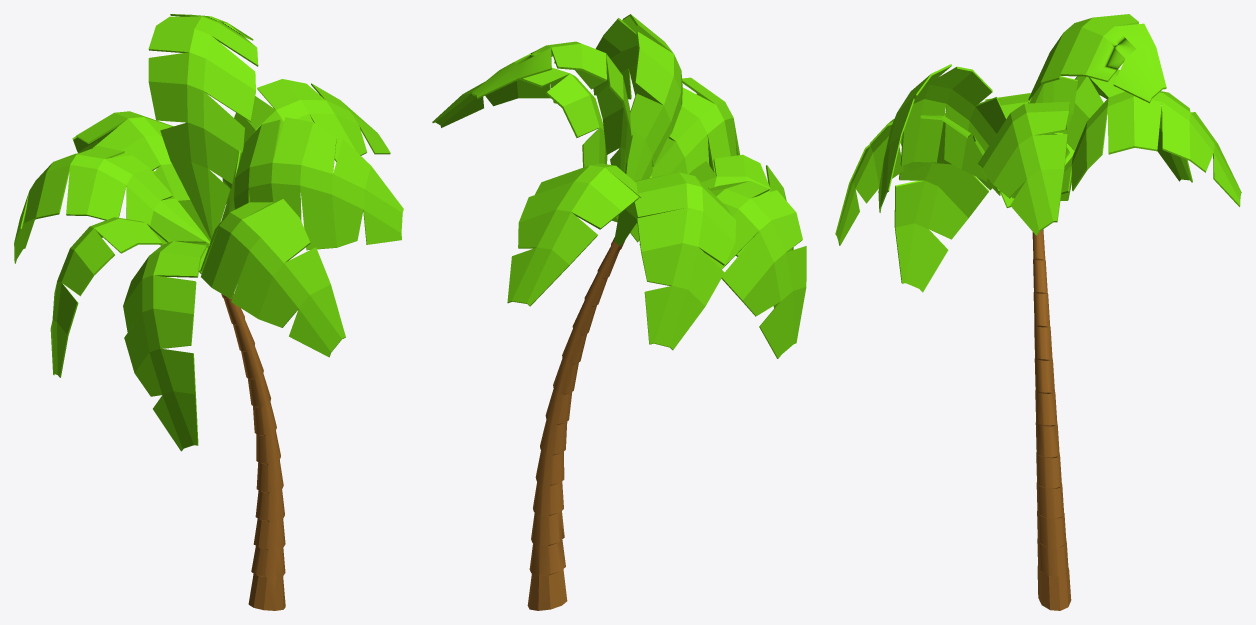
File: Palmera .fbx
3 views of the same model, side by side, from view 1: azimuth 30°, elevation 25°; view 2: azimuth 150°, elevation 25°; view 3: azimuth 270°, elevation 25° (orthographic). The views are drawn at different scales.
Parts seen in each view (by area): view 1: Sphere.003; view 2: Sphere.003; view 3: Sphere.003.
Boxes of the visible parts, x1,y1,x2,y2 form: Sphere.003: [14, 14, 403, 610]; Sphere.003: [432, 14, 806, 610]; Sphere.003: [835, 14, 1241, 610].
Size of the model in its own units: 322 by 524 by 344.
